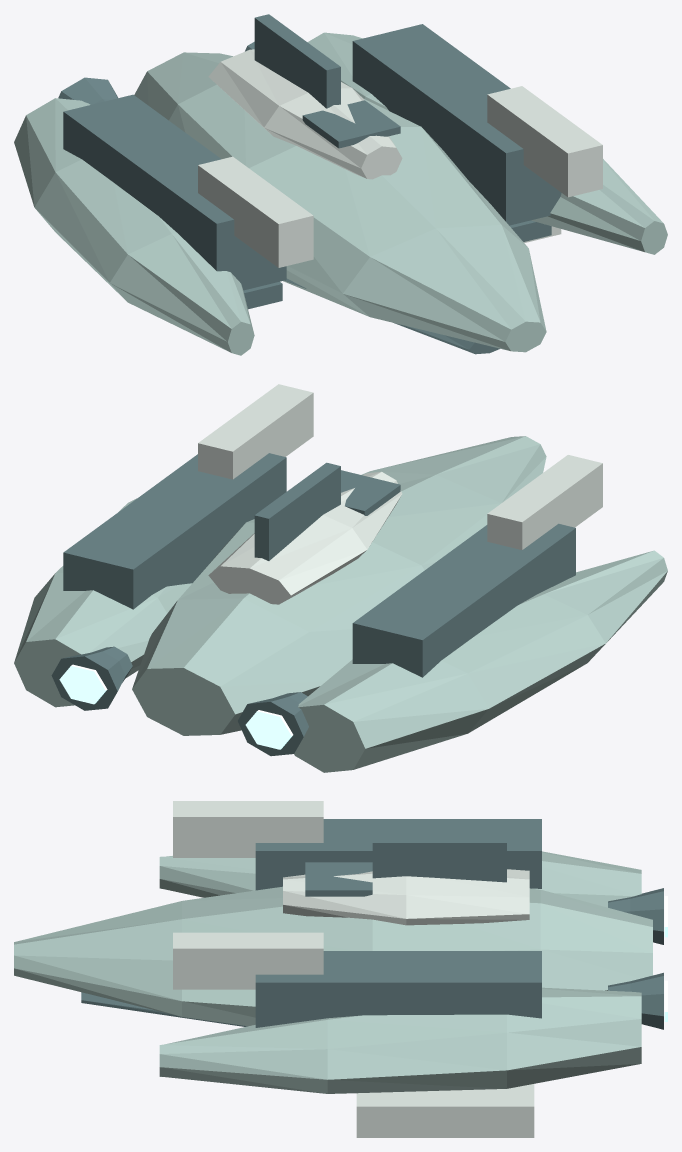
3 views of the same model, one above another, from view 1: azimuth 30°, elevation 25°; view 2: azimuth 150°, elevation 25°; view 3: azimuth 270°, elevation 25° (orthographic). The views are drawn at different scales.
Bounding box in the file's own units: 14.19 × 5.81 × 17.36.
